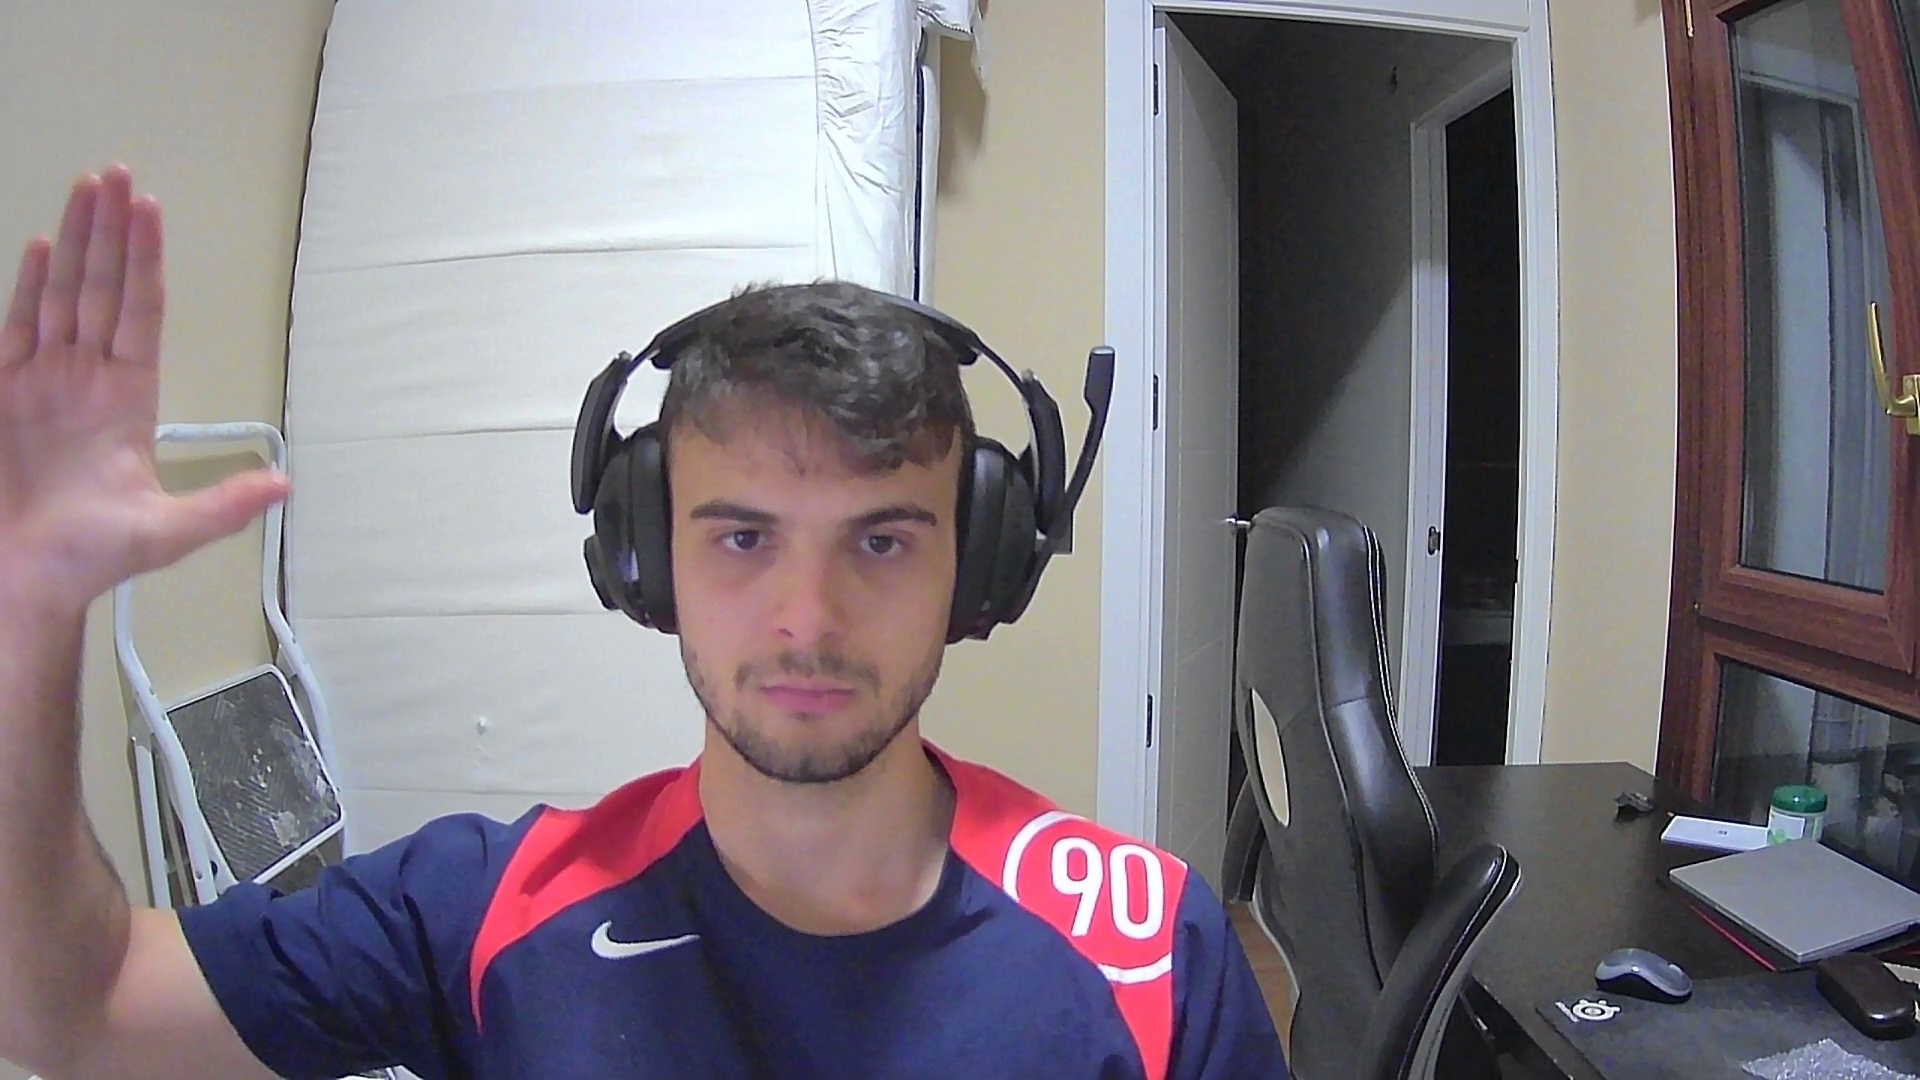Palm: (1, 161, 295, 588)
